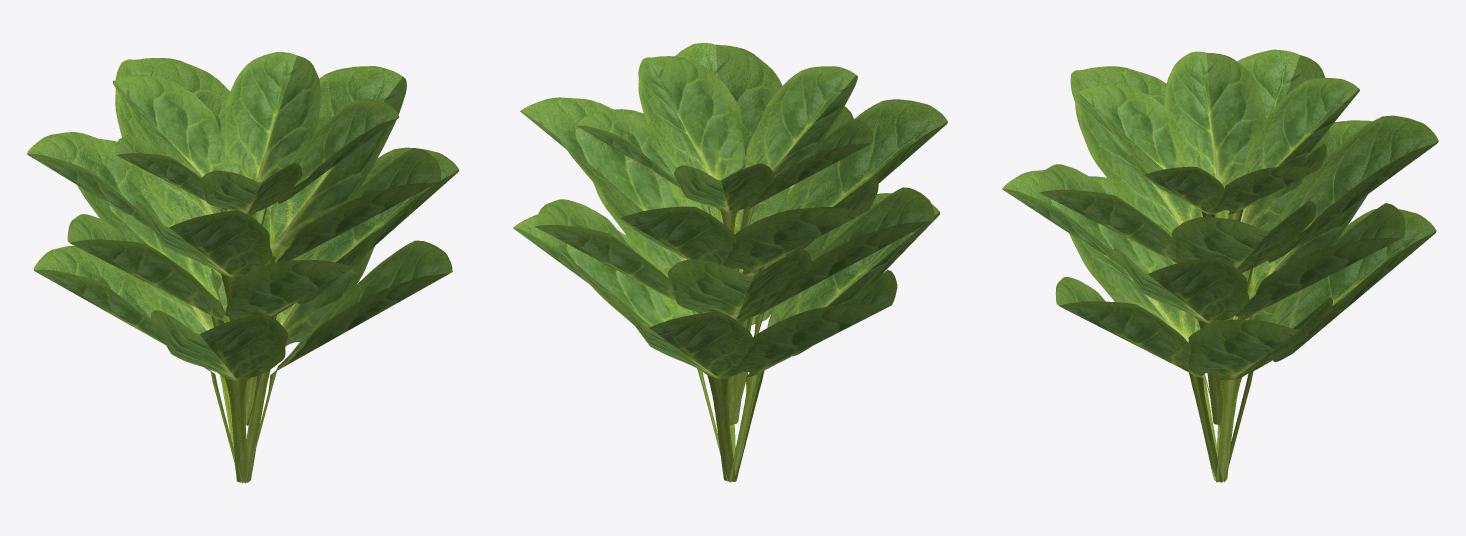
The model's file is Spinach.fbx.
The picture shows the model from 3 angles, left to right: view 1: azimuth 30°, elevation 25°; view 2: azimuth 150°, elevation 25°; view 3: azimuth 270°, elevation 25°; orthographic projection.
Parts seen in each view (by area): view 1: baby-spinach.021; view 2: baby-spinach.021; view 3: baby-spinach.021.
Part boxes in pixels (x1,y1,x2,y2): baby-spinach.021: (27, 52, 458, 483); baby-spinach.021: (513, 43, 947, 482); baby-spinach.021: (1002, 49, 1438, 482).
Bounding box in the file's own units: 144 × 141 × 146.
